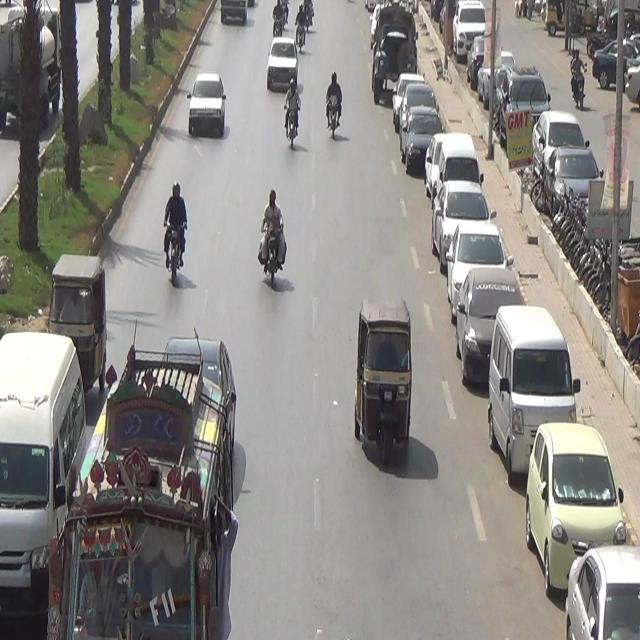car: (0, 326, 86, 640), (518, 417, 626, 591), (483, 299, 588, 474), (446, 270, 534, 391), (436, 220, 512, 314), (422, 183, 490, 258), (186, 65, 235, 148), (438, 127, 486, 205), (398, 103, 448, 175), (391, 70, 436, 132), (418, 129, 458, 197), (264, 37, 302, 90)
motorbike: (152, 172, 188, 295), (254, 174, 287, 294), (324, 68, 349, 153), (284, 75, 305, 146), (293, 0, 308, 54)
truck: (364, 0, 420, 102)
